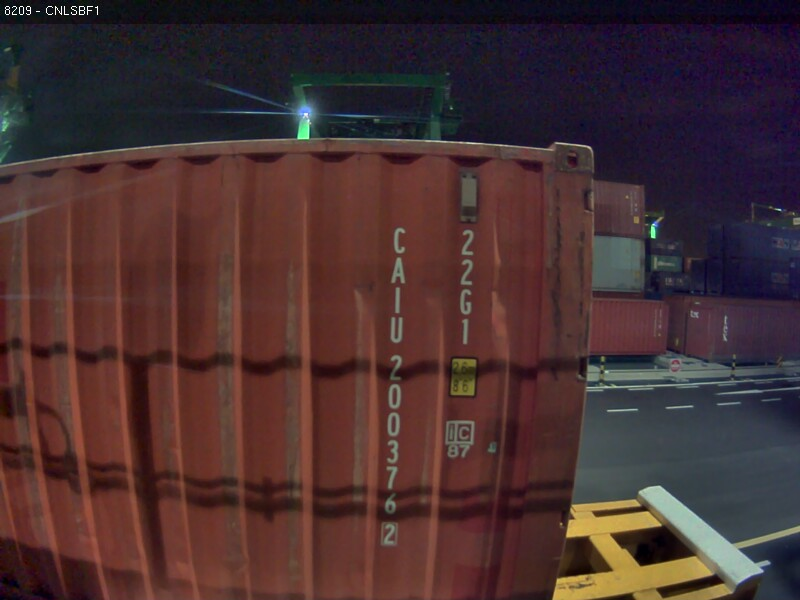container_no_door: (96, 132, 602, 577)
